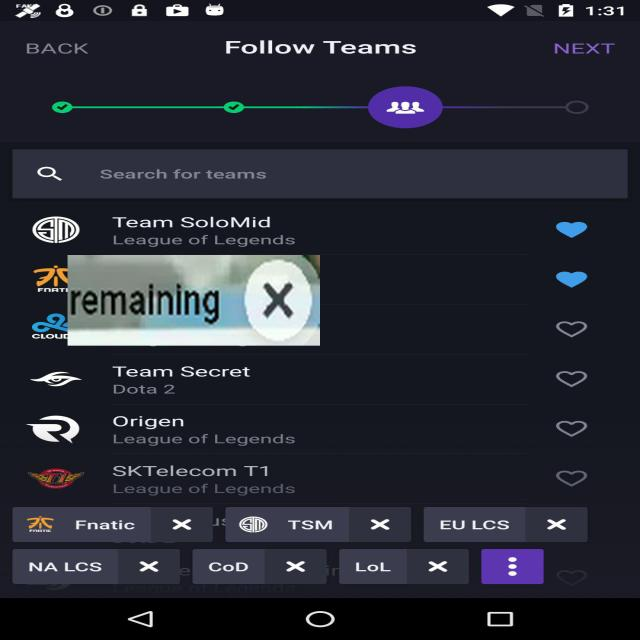misdirection: (68, 255, 320, 346)
